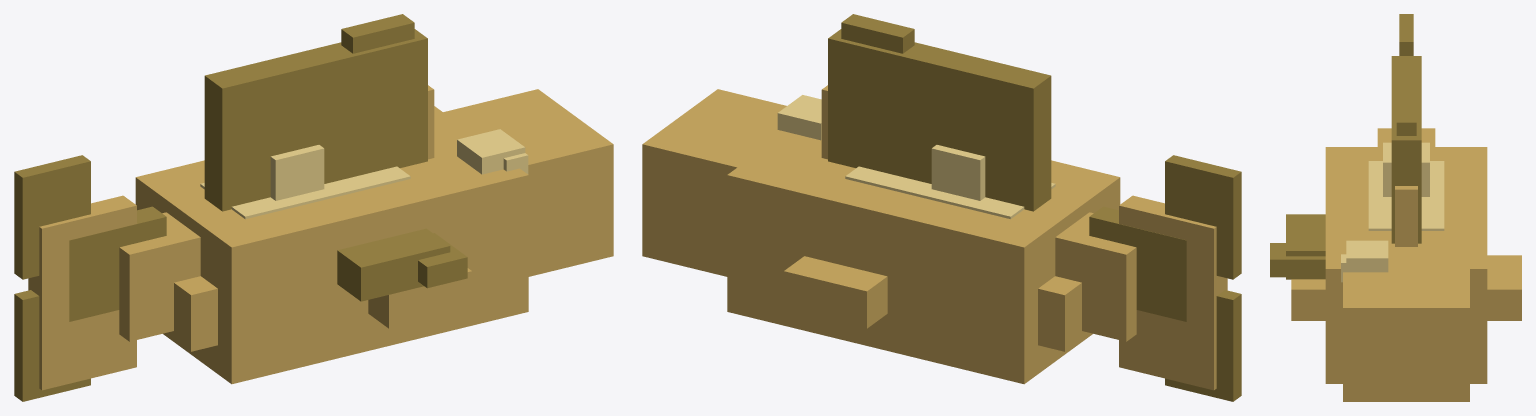
Rendered from fish_gilt_bass.glb.
3 views of the same model, side by side, from view 1: azimuth 30°, elevation 25°; view 2: azimuth 150°, elevation 25°; view 3: azimuth 270°, elevation 25° (orthographic). The views are drawn at different scales.
Parts seen in each view (by area): view 1: FishArt_body, FishArt_dorsal, FishArt_tail, FishArt_pectoral, FishArt_specialty, FishArt_eye; view 2: FishArt_body, FishArt_dorsal, FishArt_tail, FishArt_specialty, FishArt_eye; view 3: FishArt_body, FishArt_dorsal, FishArt_specialty, FishArt_pectoral, FishArt_eye, FishArt_tail.
Part boxes in pixels (x1,y1,x2,y2): FishArt_body: [28, 85, 613, 390]; FishArt_dorsal: [204, 14, 427, 211]; FishArt_tail: [14, 155, 166, 401]; FishArt_pectoral: [337, 228, 467, 301]; FishArt_specialty: [200, 145, 410, 219]; FishArt_eye: [457, 129, 528, 174]; FishArt_body: [642, 85, 1227, 390]; FishArt_dorsal: [828, 14, 1051, 211]; FishArt_tail: [1089, 155, 1241, 401]; FishArt_specialty: [845, 145, 1055, 219]; FishArt_eye: [777, 95, 821, 140]; FishArt_body: [1291, 128, 1521, 401]; FishArt_dorsal: [1391, 56, 1421, 243]; FishArt_specialty: [1368, 142, 1444, 230]; FishArt_pectoral: [1270, 214, 1325, 279]; FishArt_eye: [1341, 240, 1388, 282]; FishArt_tail: [1399, 14, 1413, 55].
Size of the model in its own units: 0.3091 by 0.1513 by 0.1439.
